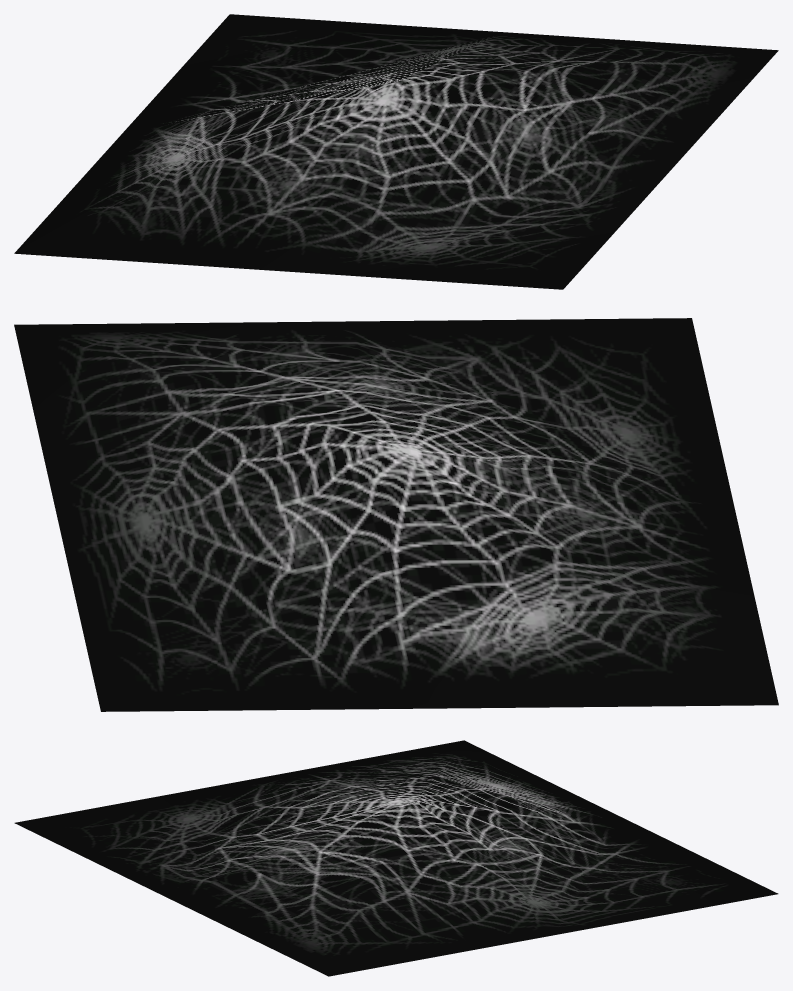
The model's file is MIRKWOOD_PLANE12.fbx.
3 views of the same model, one above another, from view 1: azimuth 30°, elevation 25°; view 2: azimuth 150°, elevation 25°; view 3: azimuth 270°, elevation 25° (orthographic). The views are drawn at different scales.
Parts seen in each view (by area): view 1: MIRKWOOD_PLANE12; view 2: MIRKWOOD_PLANE12; view 3: MIRKWOOD_PLANE12.
Part boxes in pixels (left/top/right/bottom): MIRKWOOD_PLANE12: left=14, top=14, right=778, bottom=289; MIRKWOOD_PLANE12: left=14, top=318, right=778, bottom=711; MIRKWOOD_PLANE12: left=14, top=740, right=778, bottom=976.
Bounding box in the file's own units: 155154 × 22571 × 157666.
Materials: 1 (1 with a texture image).
